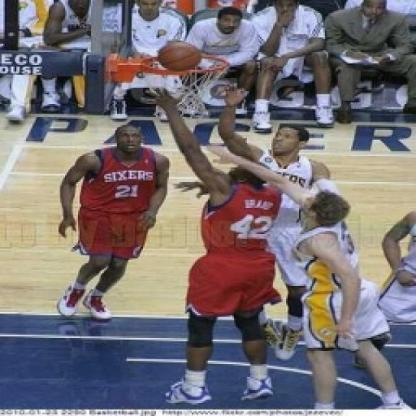basketball: (154, 35, 205, 75)
